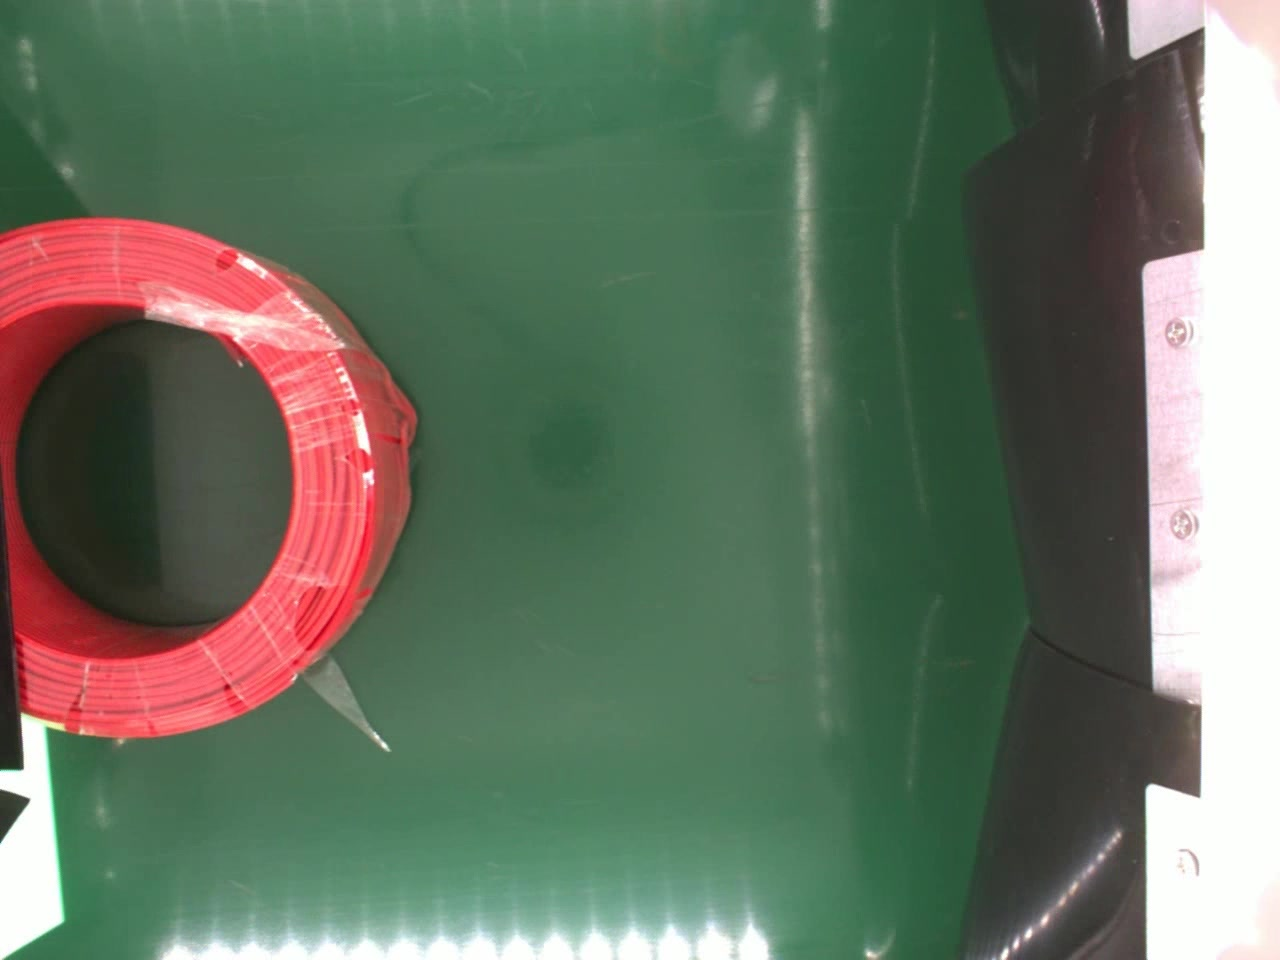red: (0, 214, 419, 739)
